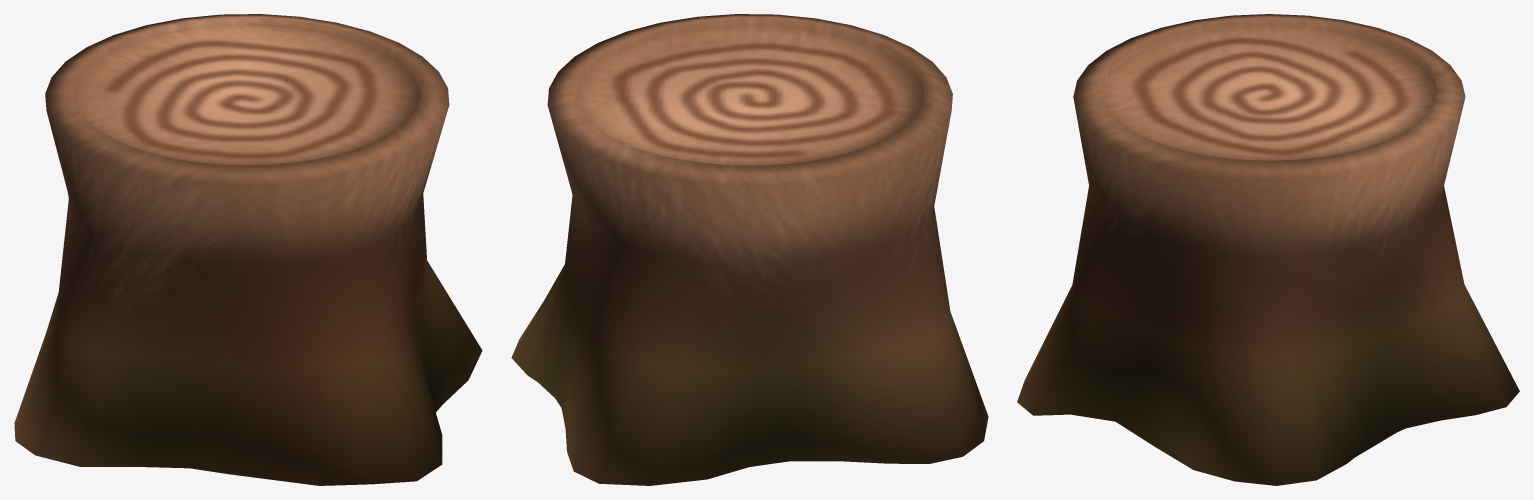
The model's file is CutLog.fbx.
3 renders of one model, left to right at view 1: azimuth 30°, elevation 25°; view 2: azimuth 150°, elevation 25°; view 3: azimuth 270°, elevation 25°, orthographic. The views are drawn at different scales.
Parts seen in each view (by area): view 1: CutLog; view 2: CutLog; view 3: CutLog.
Boxes of the visible parts, bbox=[...] form: CutLog: bbox=[14, 14, 482, 485]; CutLog: bbox=[511, 14, 988, 485]; CutLog: bbox=[1017, 14, 1519, 485].
Bounding box in the file's own units: 154 × 99.53 × 154.
